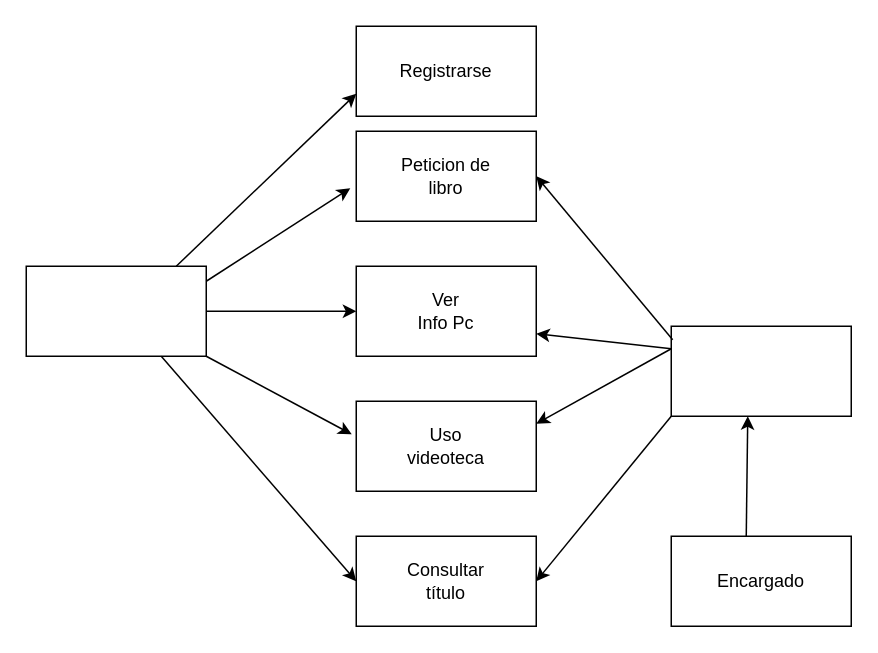
The diagram is 878 pixels wide and 653 high, and some of its shapes have lost their labels. Each missing label, with the centre of its shape:
"Bibliotecario" belongs at (x=760, y=370).
"Usuario" belongs at (x=115, y=310).
